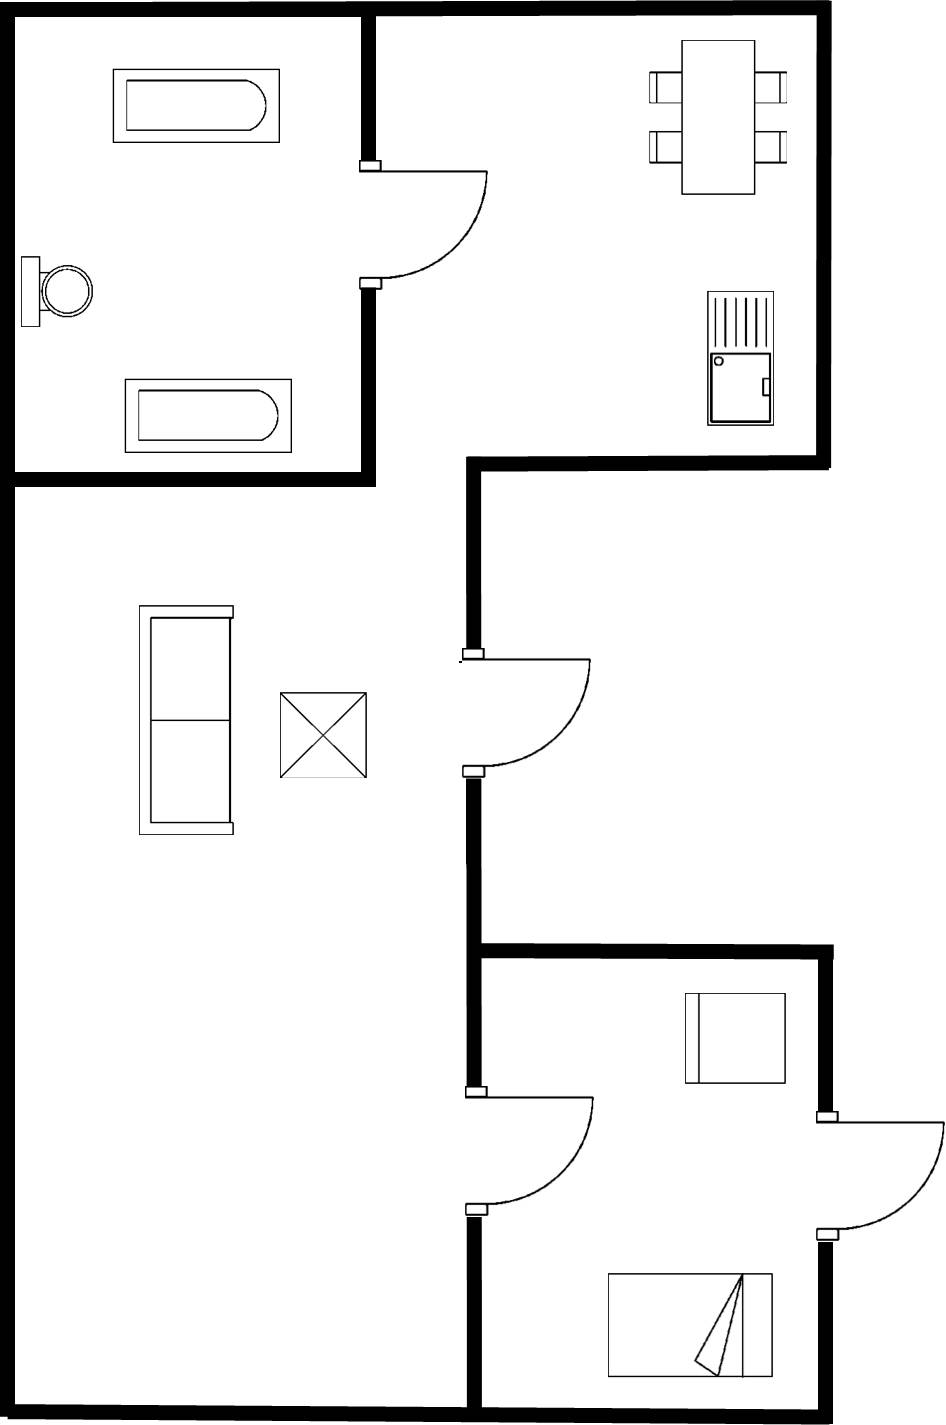bed: (601, 1266, 784, 1387)
coffee_table: (269, 685, 374, 791)
dining_table: (640, 30, 797, 206)
large_sink: (20, 245, 97, 337)
large_sofa: (127, 596, 249, 844)
sink: (698, 284, 783, 433)
small_sofa: (669, 984, 795, 1092)
tub: (106, 63, 290, 152), (119, 370, 302, 459)
